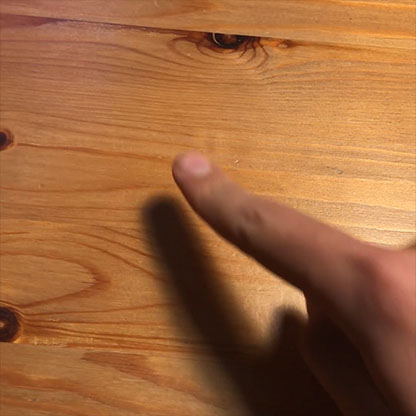fingertip: (171, 144, 222, 186)
